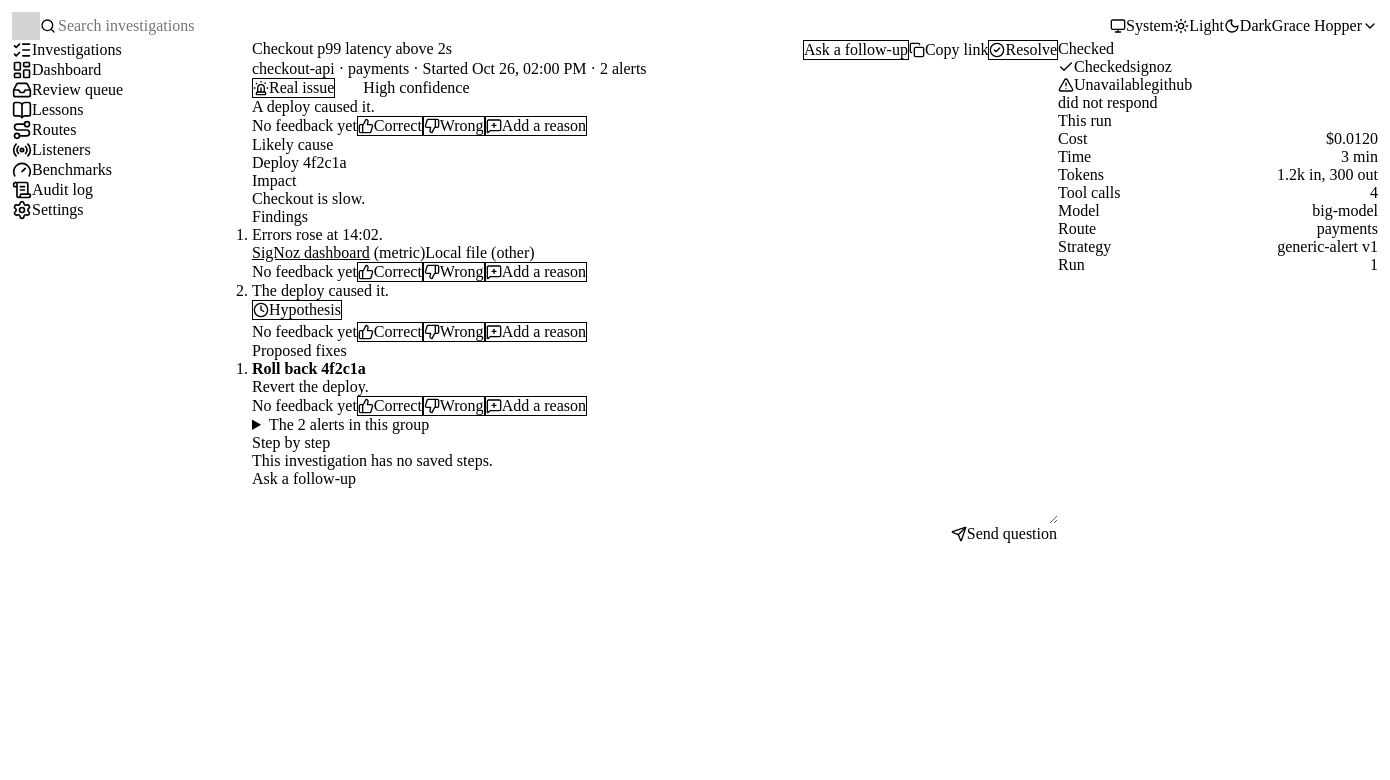
feedback on the parts of an investigation › sends Correct at once, with the CSRF token, and says so
Click the button with aria-label "Mark finding f1 correct": [390, 272] box [357,262,423,282]
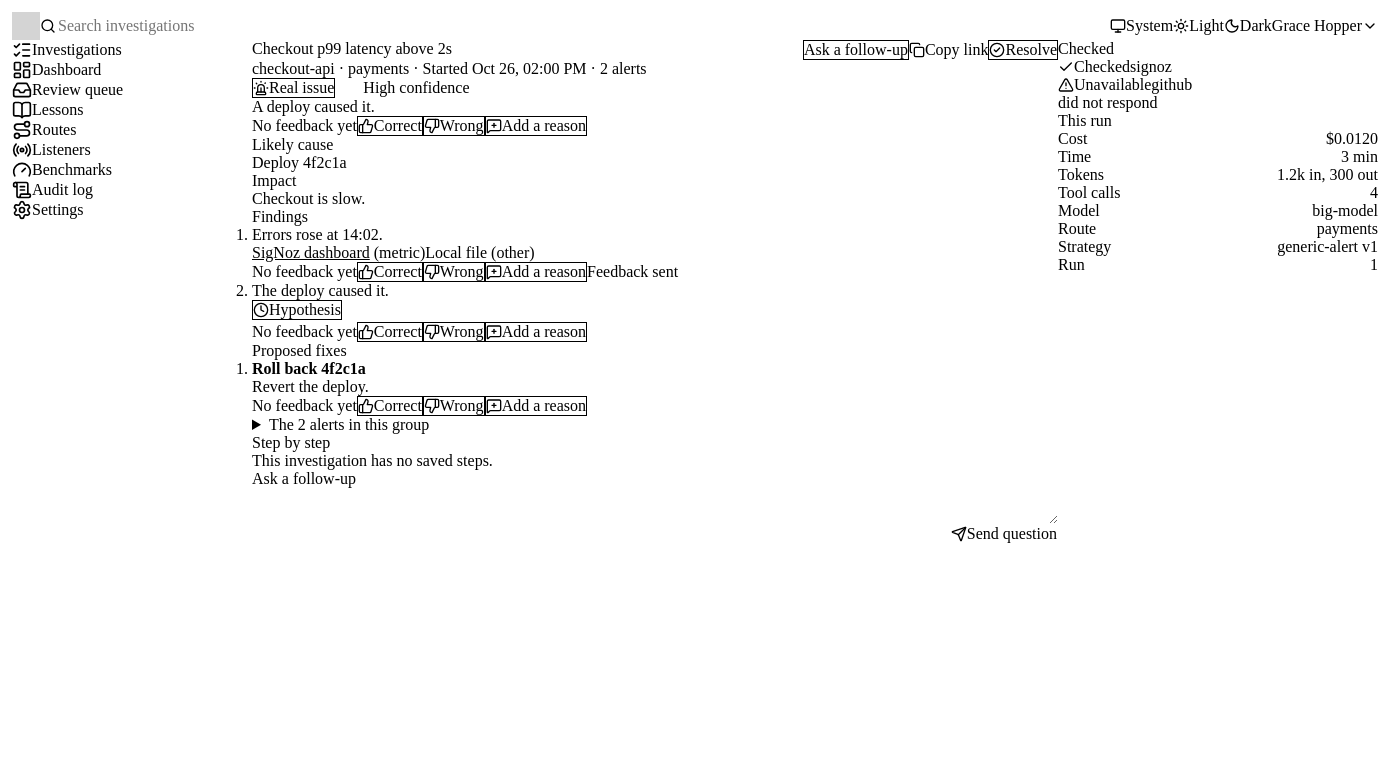
Expected: the text "Feedback sent" is shown, [587,263,678,281]
